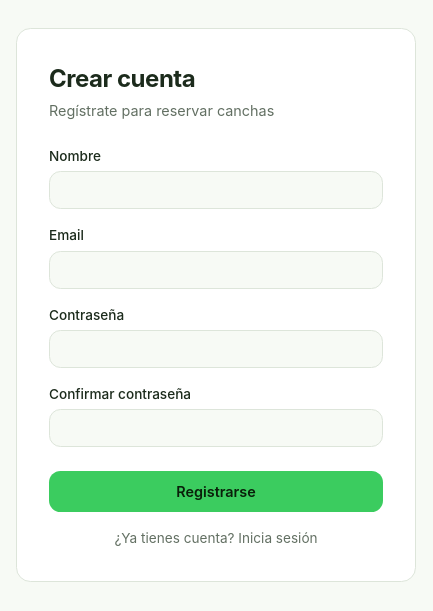
Test: RegisterPage › shows server error message on failure
In the field labelled "Nombre": (216, 190) [49,171,383,209], type "Test"
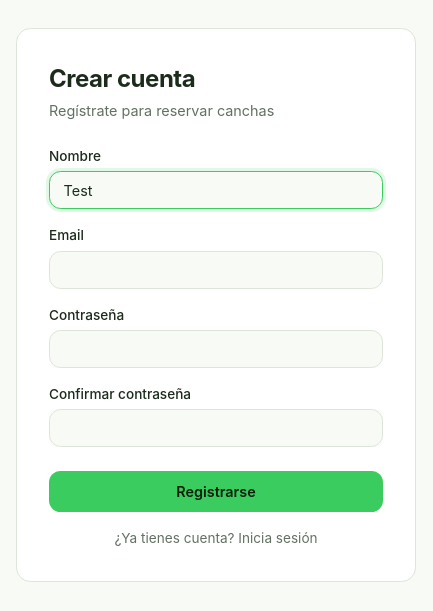
In the field labelled "Email": (216, 270) [49,250,383,289], type "test@test.com"
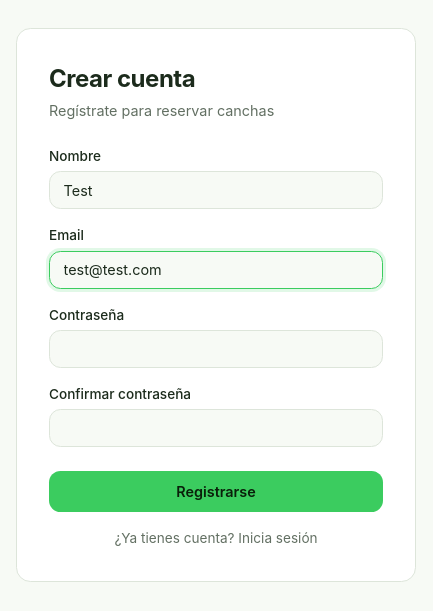
In the password field labelled "Contraseña": (216, 349) [49,330,383,368], type "pass123"
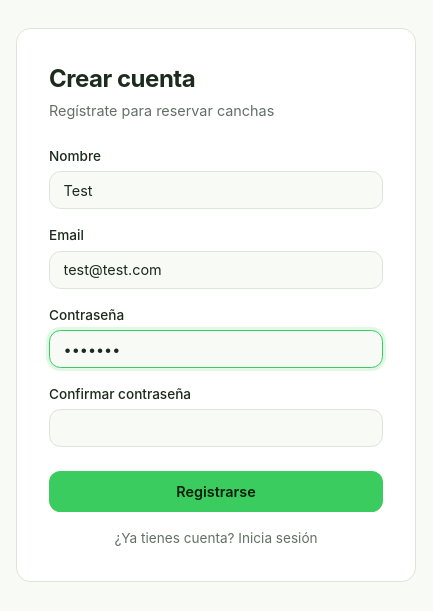
In the password field labelled "Confirmar contraseña": (216, 428) [49,409,383,448], type "pass123"
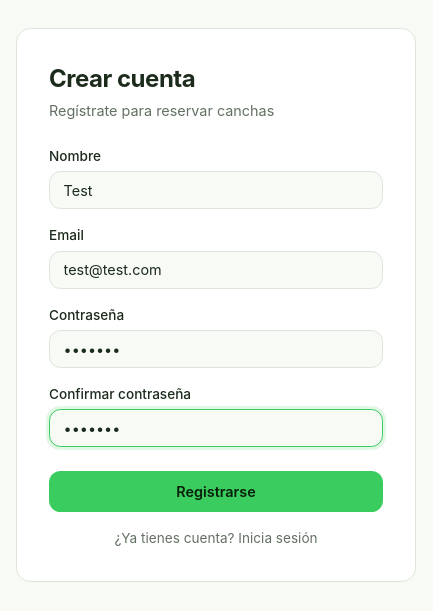
Click the button "Registrarse": (216, 492) [49,472,383,512]
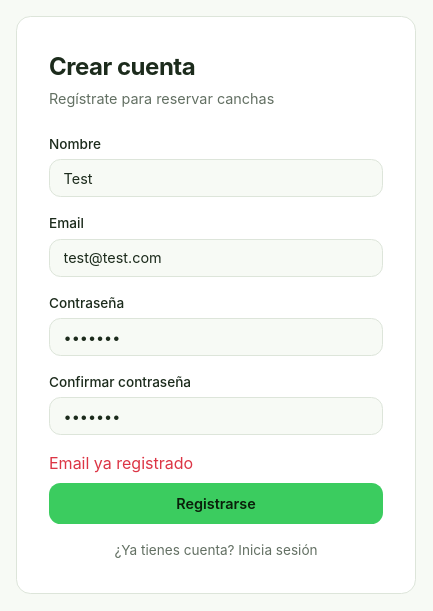
Expected: the text "Email ya registrado" is shown, [49,454,193,474]
